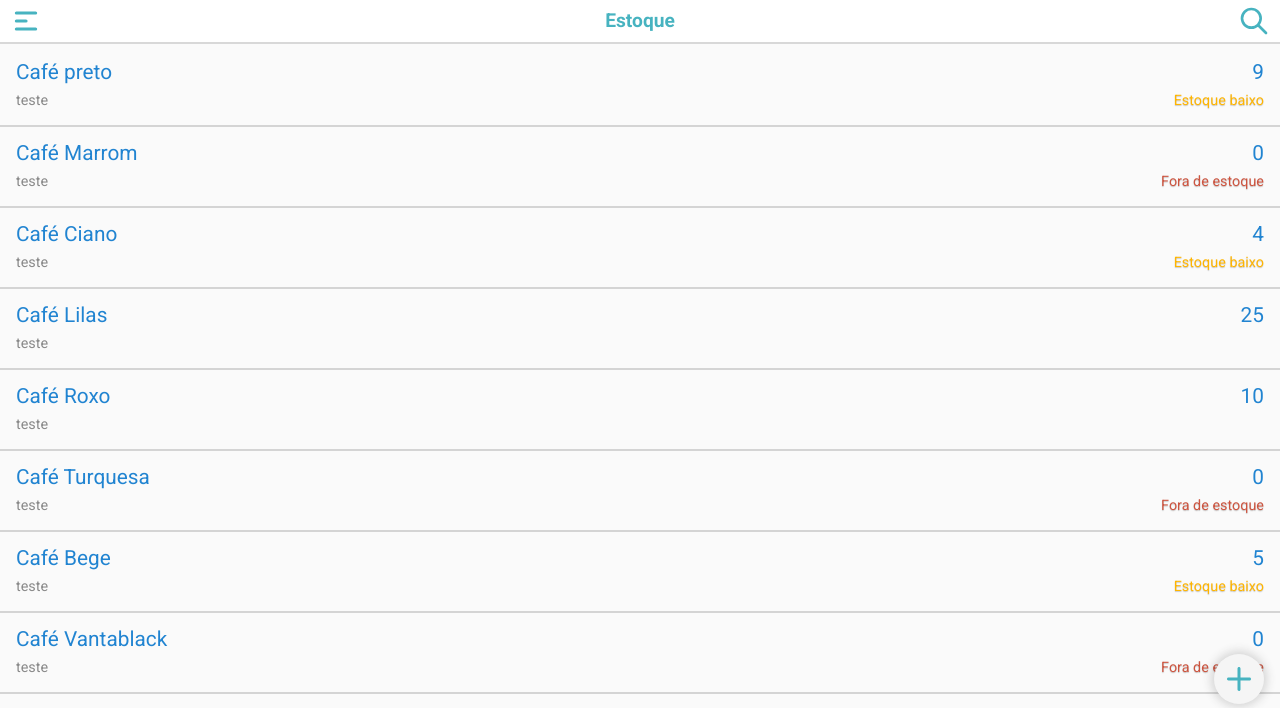
Test case: Home › Product List › should be possible close product details
Click the element showing "Café preto 9 teste Estoque baixo".
click(640, 84)  # box [0,44,1279,125]
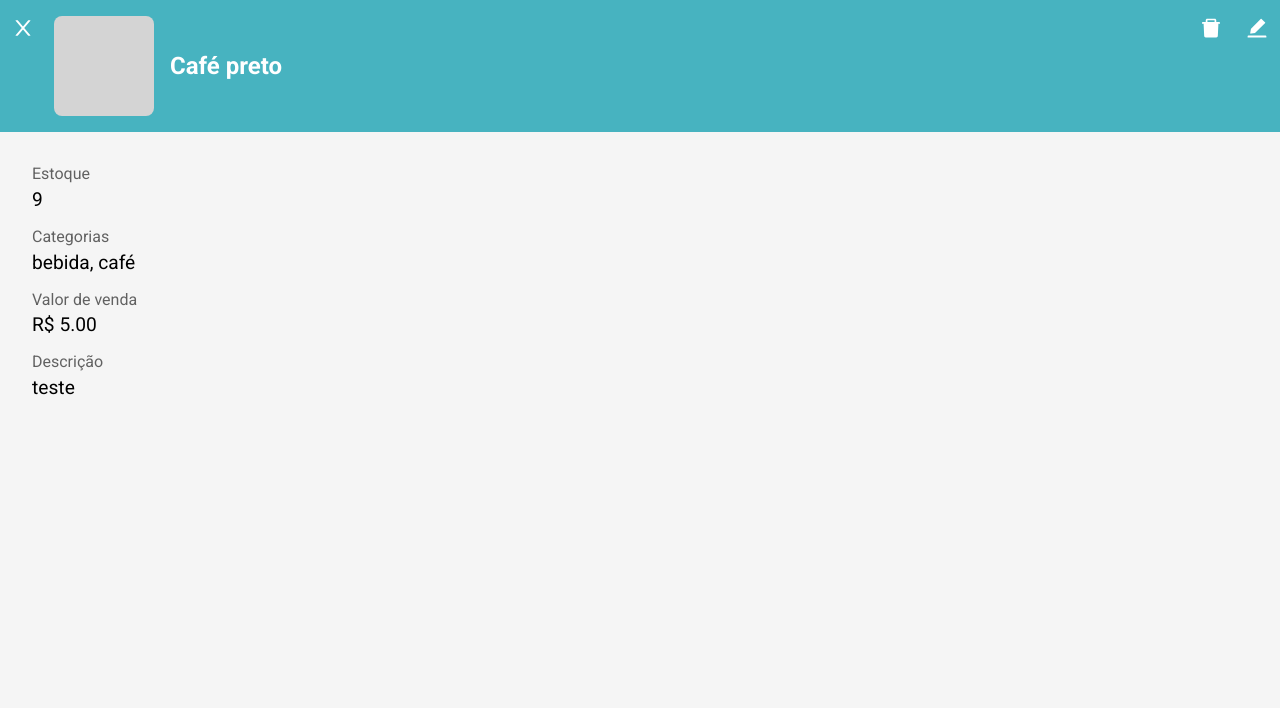
Expected: the button with class "close-modal" is shown
Click the button with class "close-modal".
click(23, 31)  # box [8,16,38,46]
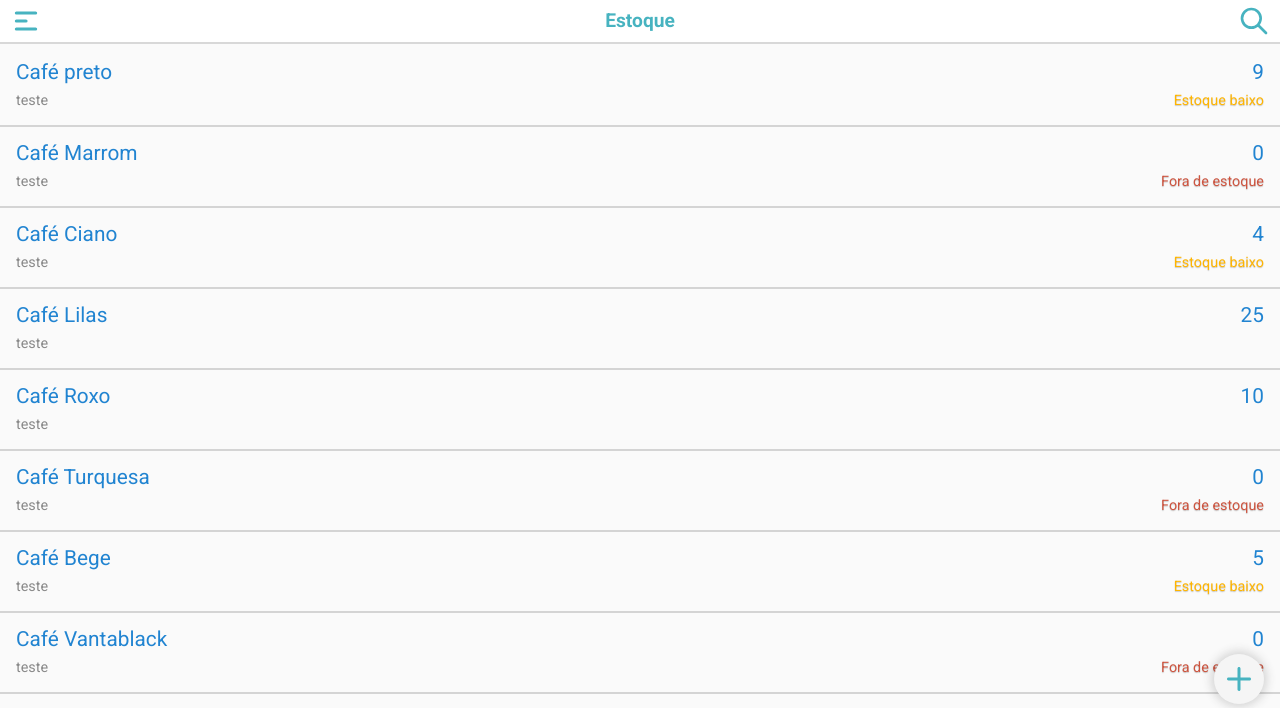
Expected: the button with class "close-modal" is gone
